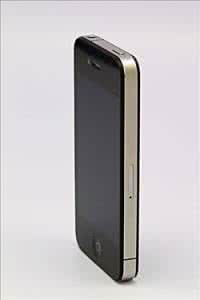phone: (71, 35, 141, 280)
